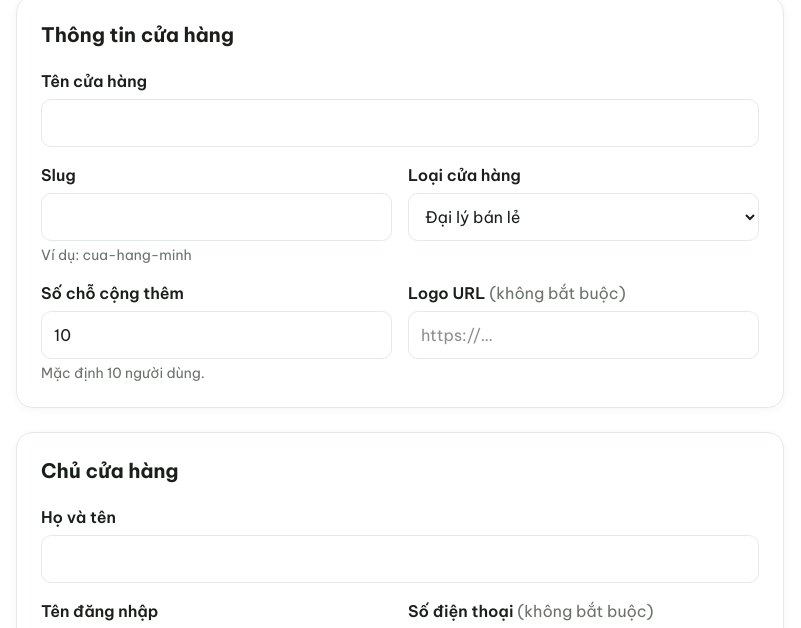
CreateTenantForm › preserves entered values and shows SLUG_TAKEN inline
This screenshot has width=801, height=628.
Type "Cửa hàng Minh" into the field labelled "Tên cửa hàng".
click(400, 123); type("Cửa hàng Minh")  # box top-left (41, 99), bottom-right (759, 147)
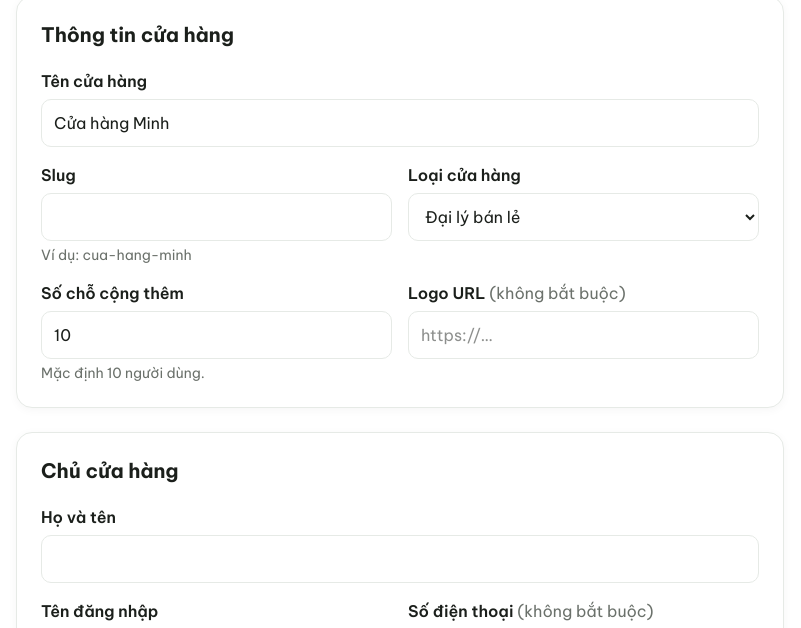
Type "cua-hang-minh" into the field labelled "Slug".
click(216, 217); type("cua-hang-minh")  # box top-left (41, 193), bottom-right (392, 241)
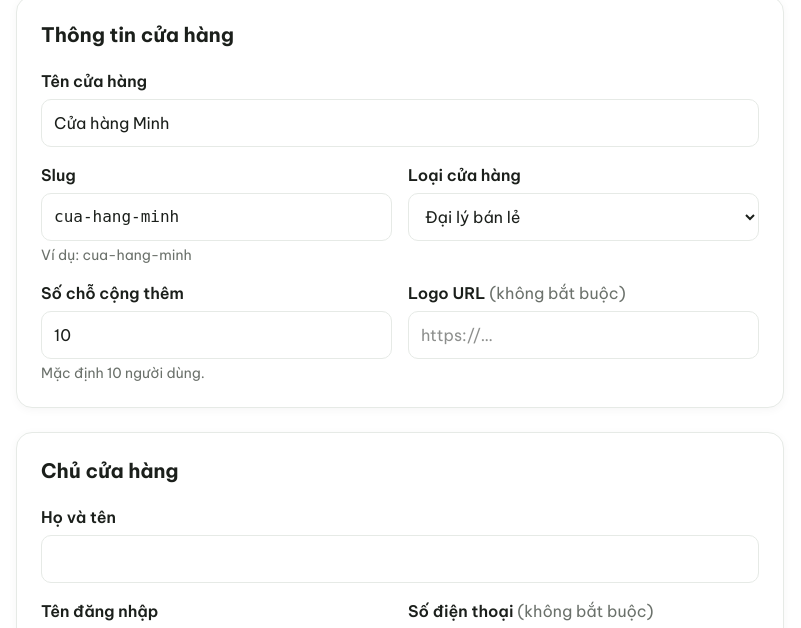
Type "Nguyễn Minh" into the field labelled "Họ và tên".
click(400, 559); type("Nguyễn Minh")  # box top-left (41, 535), bottom-right (759, 583)
(page scrolled)
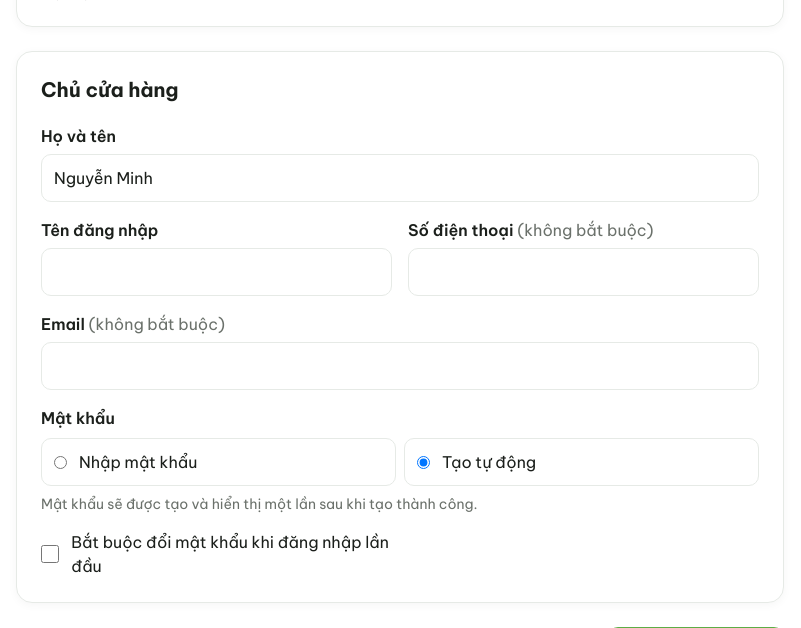
Type "minh-owner" into the field labelled "Tên đăng nhập".
click(216, 272); type("minh-owner")  # box top-left (41, 248), bottom-right (392, 296)
(page scrolled)
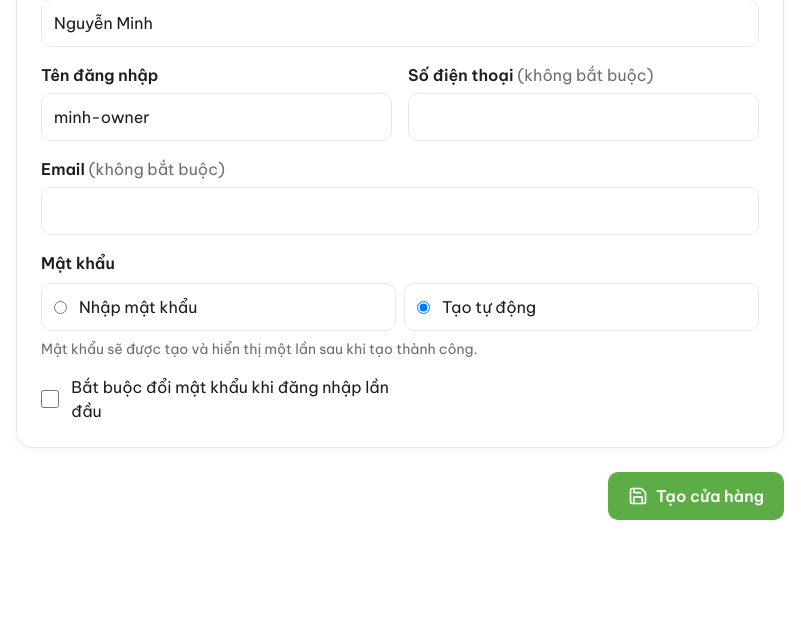
Click the button "Tạo cửa hàng".
click(696, 496)  # box top-left (608, 472), bottom-right (784, 520)
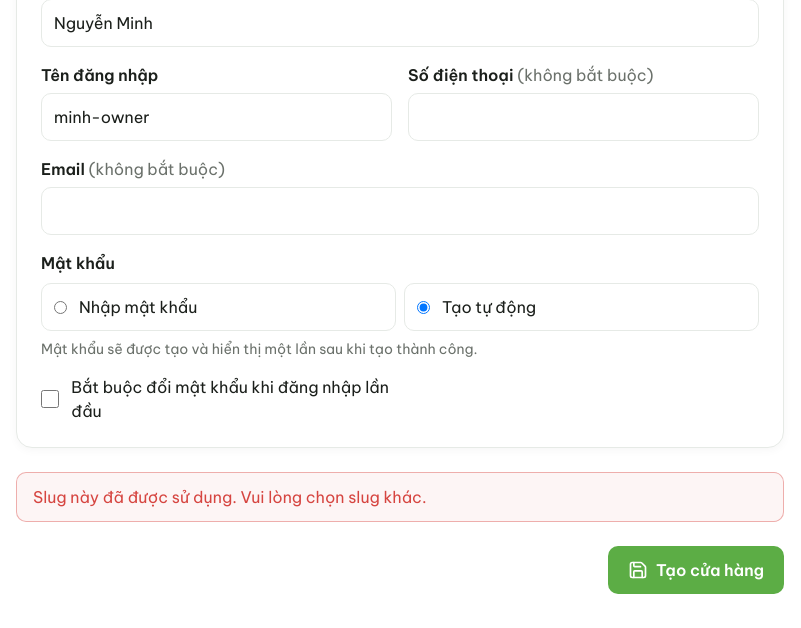
Result: the message shows "Slug này đã được sử dụng" at top-left (33, 487), bottom-right (426, 507)
